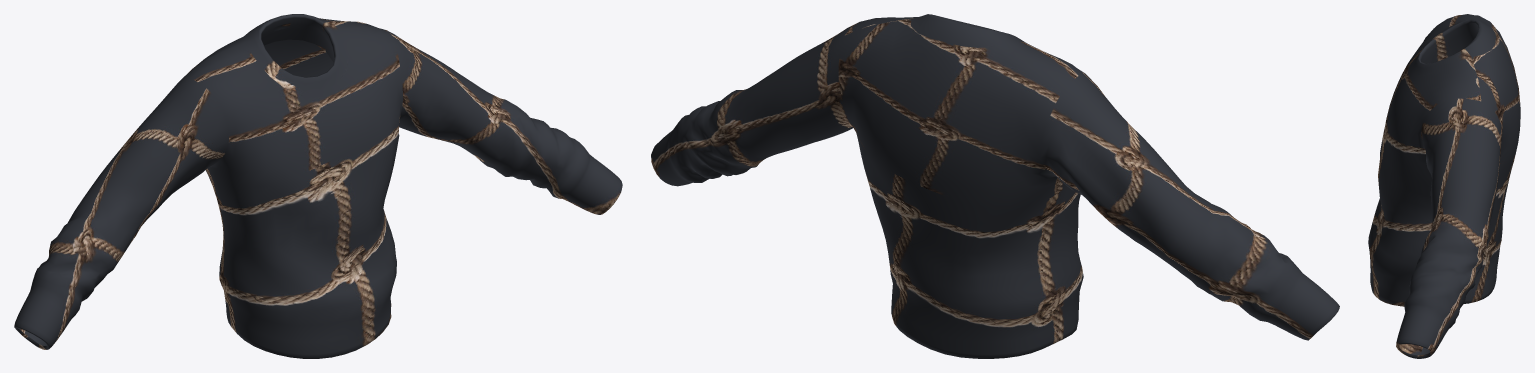
Rendered from sweater_output.glb.
The picture shows the model from 3 angles, left to right: view 1: azimuth 30°, elevation 25°; view 2: azimuth 150°, elevation 25°; view 3: azimuth 270°, elevation 25°; orthographic projection. The views are drawn at different scales.
Parts seen in each view (by area): view 1: Sweater_low; view 2: Sweater_low; view 3: Sweater_low.
Boxes of the visible parts, left/top/right/bottom form: Sweater_low: left=14, top=14, right=622, bottom=358; Sweater_low: left=651, top=14, right=1339, bottom=358; Sweater_low: left=1368, top=14, right=1520, bottom=358.
Size of the model in its own units: 5.53 by 2.58 by 1.37.
1 material, 1 textured.
